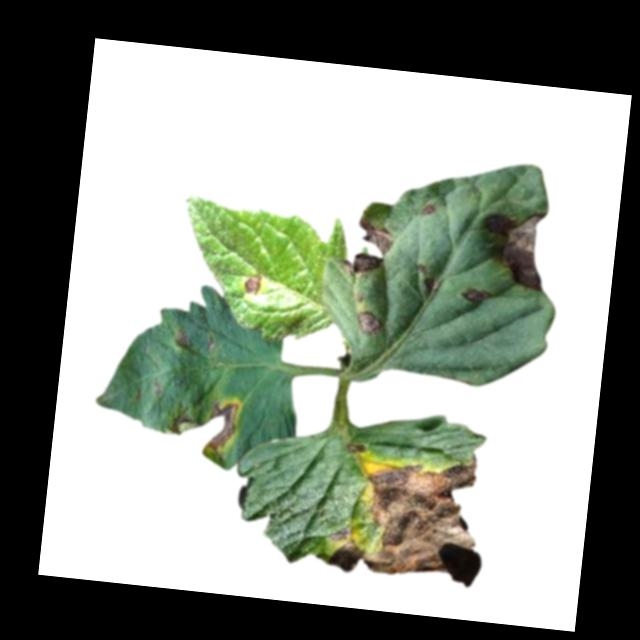Early_blight: (321, 440, 496, 588), (477, 206, 553, 296), (163, 392, 242, 461), (337, 217, 396, 283), (412, 262, 442, 293), (351, 310, 383, 338), (461, 286, 489, 310), (244, 273, 263, 296), (171, 331, 191, 350), (420, 202, 435, 220)
